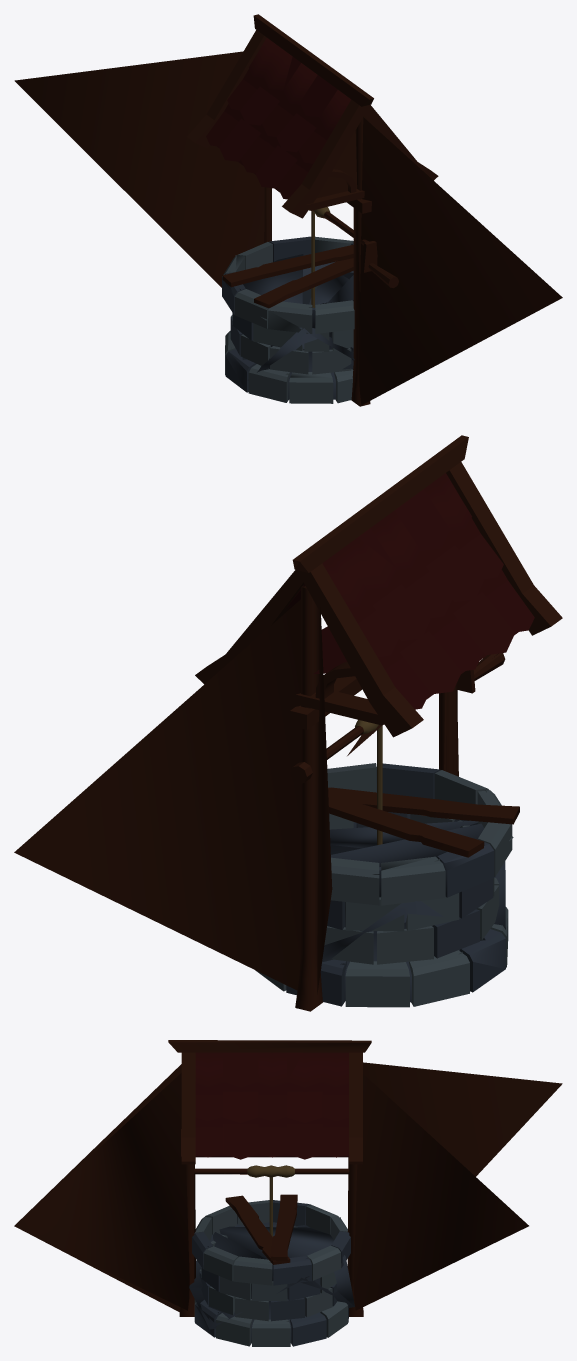
Rendered from Well.fbx.
The picture shows the model from 3 angles, top to bottom: view 1: azimuth 30°, elevation 25°; view 2: azimuth 150°, elevation 25°; view 3: azimuth 270°, elevation 25°; orthographic projection. The views are drawn at different scales.
Parts seen in each view (by area): view 1: Low_Well, High_Well; view 2: High_Well, Low_Well; view 3: Low_Well, High_Well.
Boxes of the visible parts, box(x1,y1,x2,y2) form: Low_Well: box(14, 51, 562, 405); High_Well: box(187, 14, 438, 406); High_Well: box(195, 435, 562, 1011); Low_Well: box(14, 599, 513, 994); Low_Well: box(14, 1062, 562, 1329); High_Well: box(168, 1040, 371, 1346).
Bounding box in the file's own units: 99.61 × 125 × 227.
